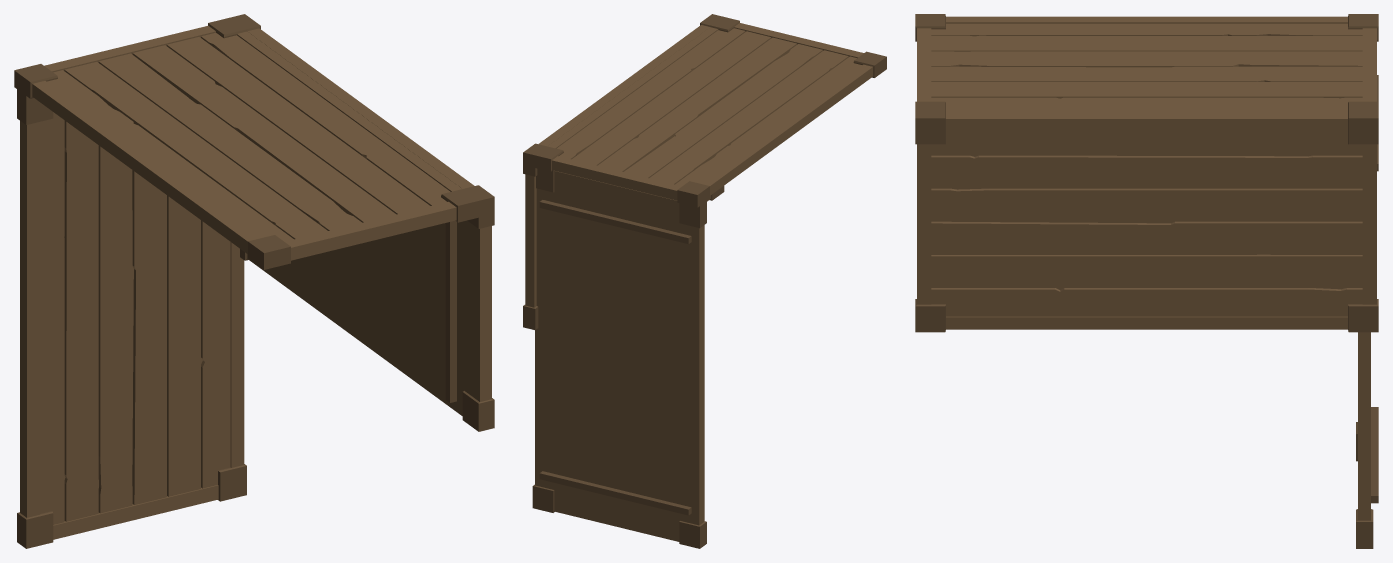
Rendered from Block.fbx.
3 views of the same model, side by side, from view 1: azimuth 30°, elevation 25°; view 2: azimuth 150°, elevation 25°; view 3: azimuth 270°, elevation 25° (orthographic). The views are drawn at different scales.
Parts seen in each view (by area): view 1: Table.001; view 2: Table.001; view 3: Table.001.
Boxes of the visible parts, x1=… form: Table.001: x1=14, y1=14, x2=494, y2=548; Table.001: x1=523, y1=14, x2=886, y2=548; Table.001: x1=915, y1=14, x2=1378, y2=548.
Bounding box in the file's own units: 148 × 288 × 278.
